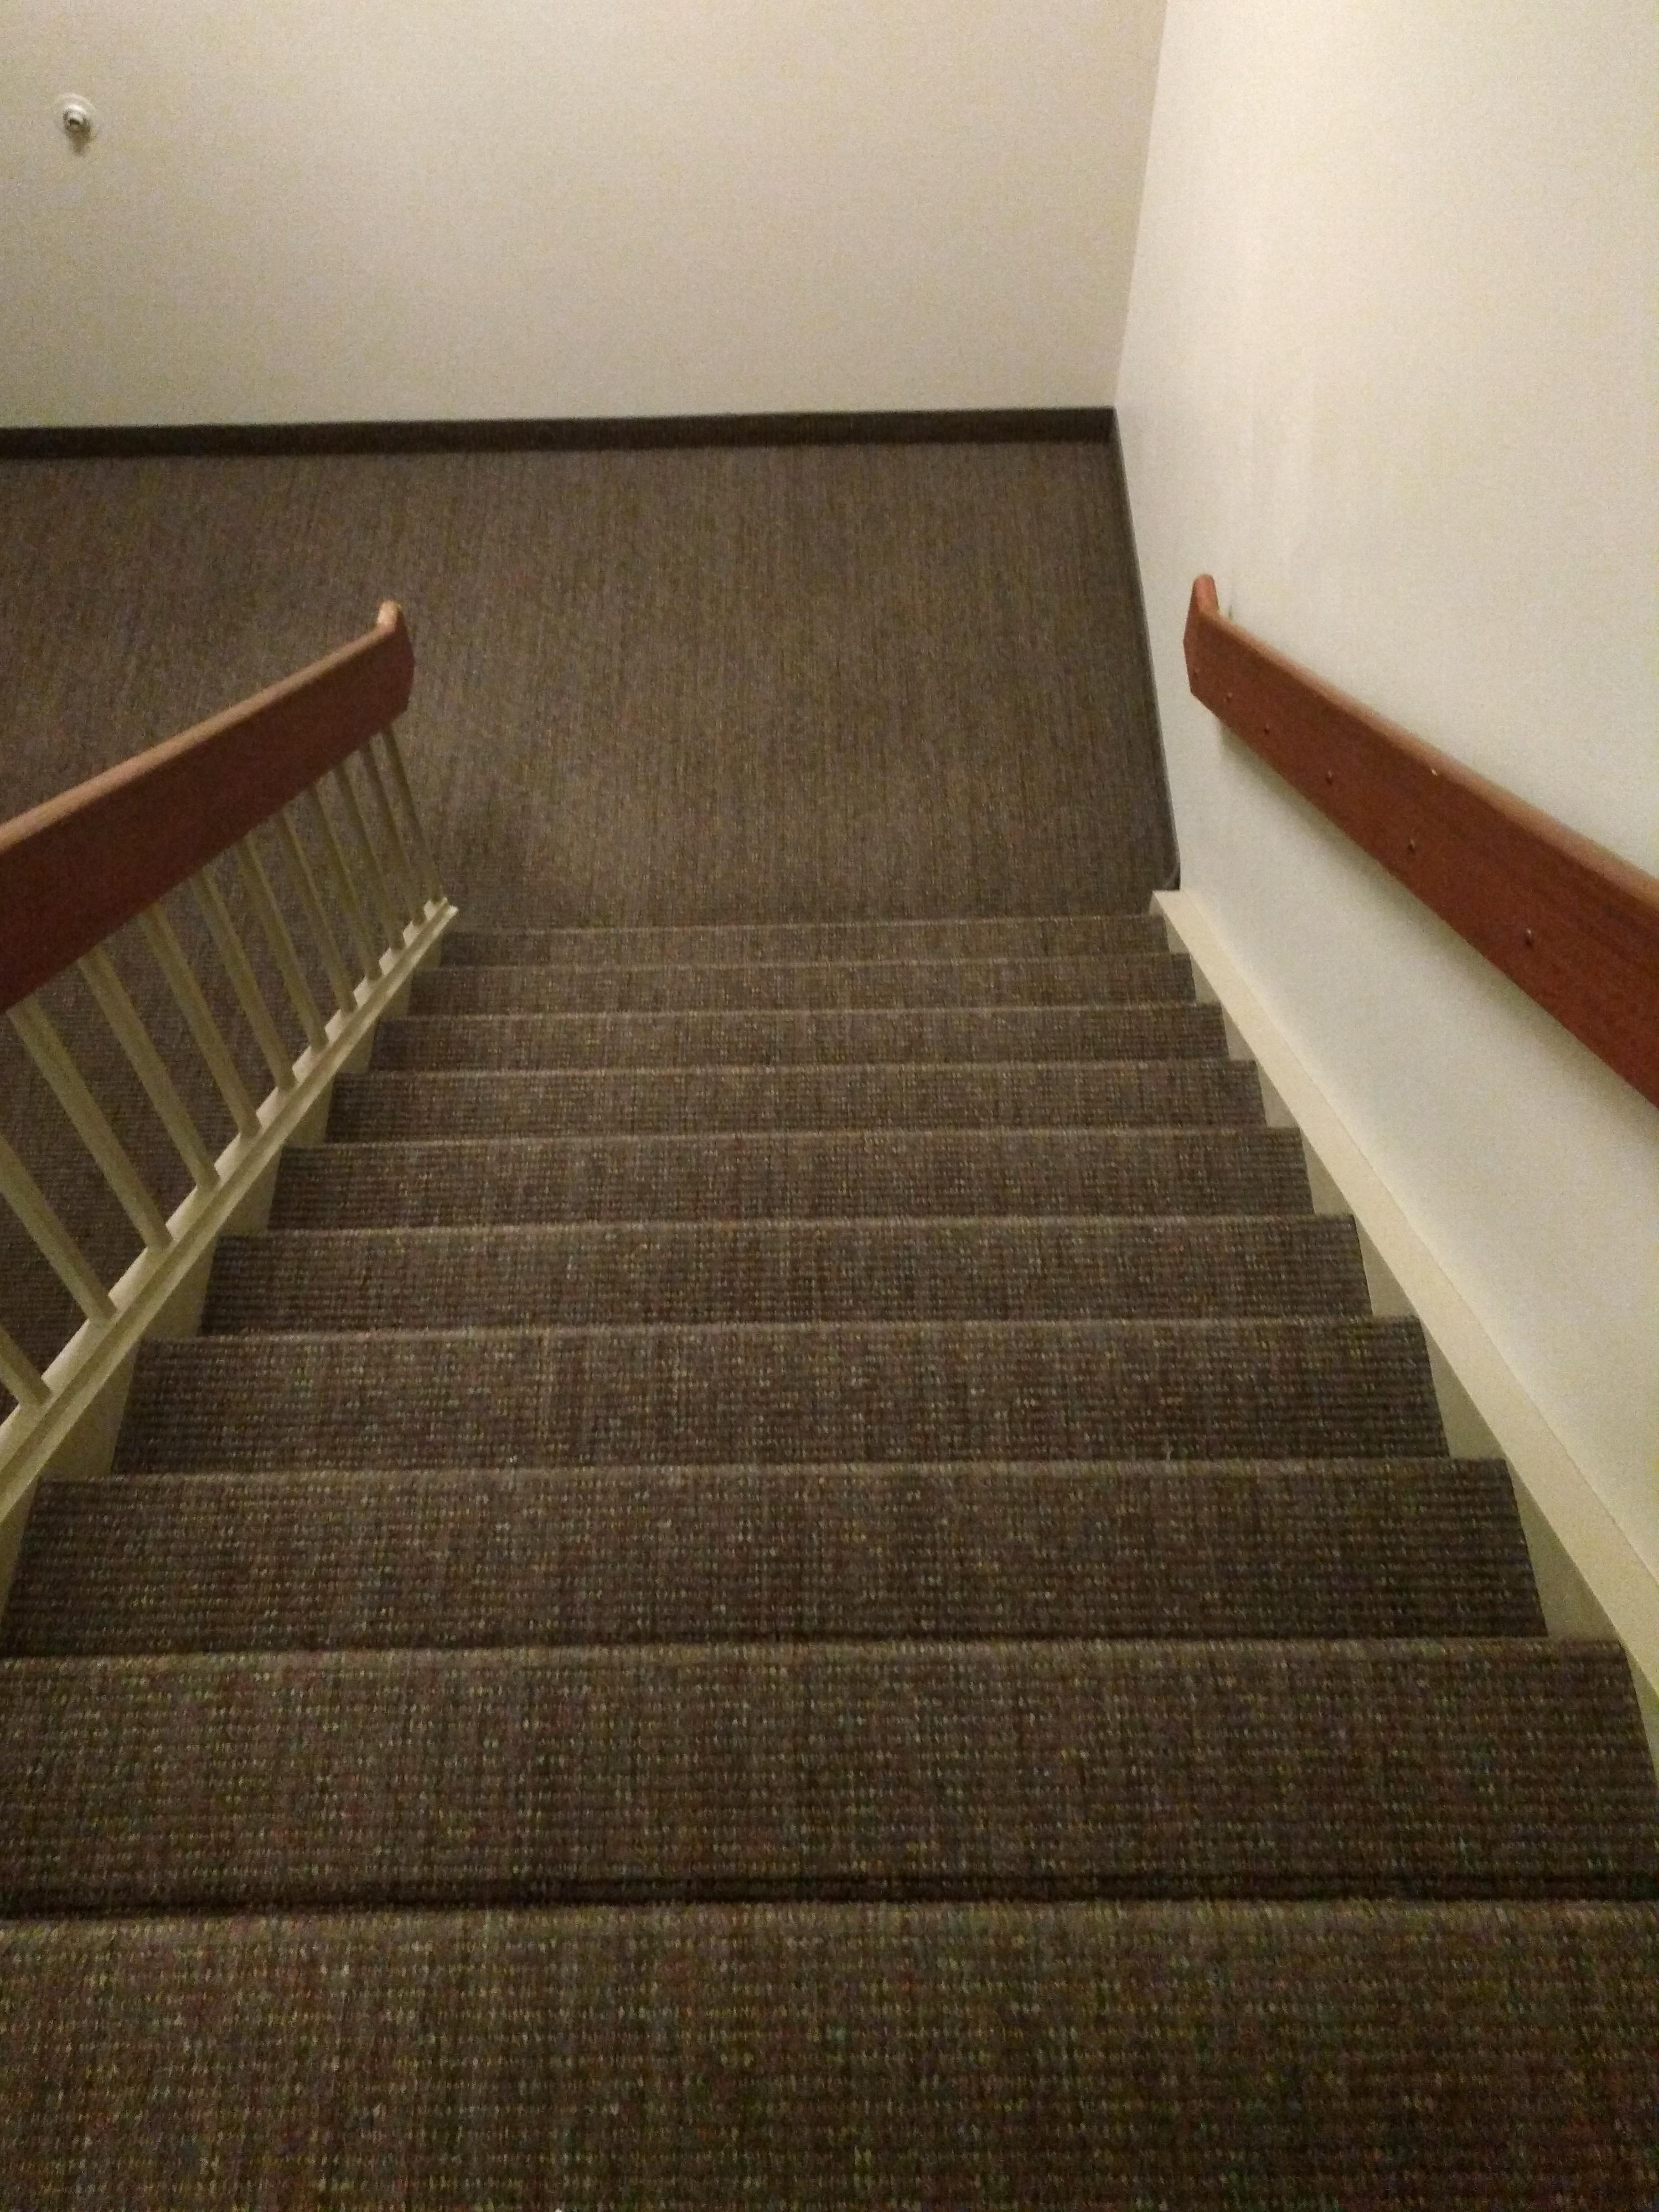stairs_down: (14, 900, 1659, 1986)
